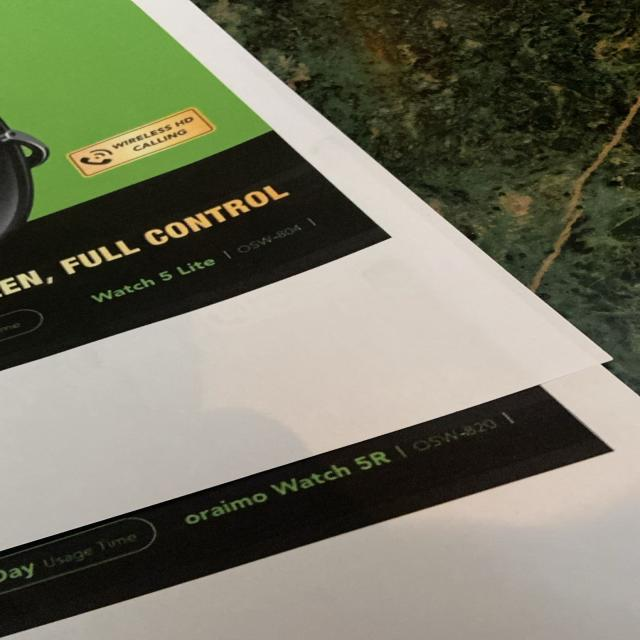Oraimo Watch 5R OSW-820: (173, 403, 529, 539)
Watch 5 Lite OSW-804: (71, 205, 344, 316)
